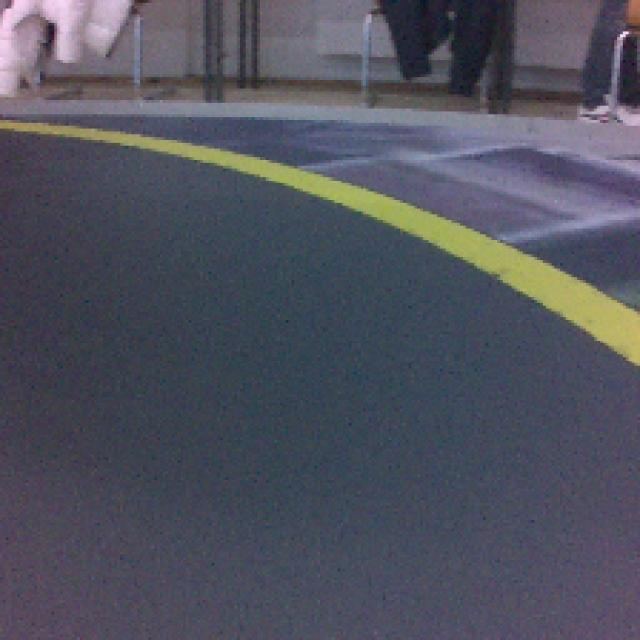Road: (0, 322, 640, 634)
